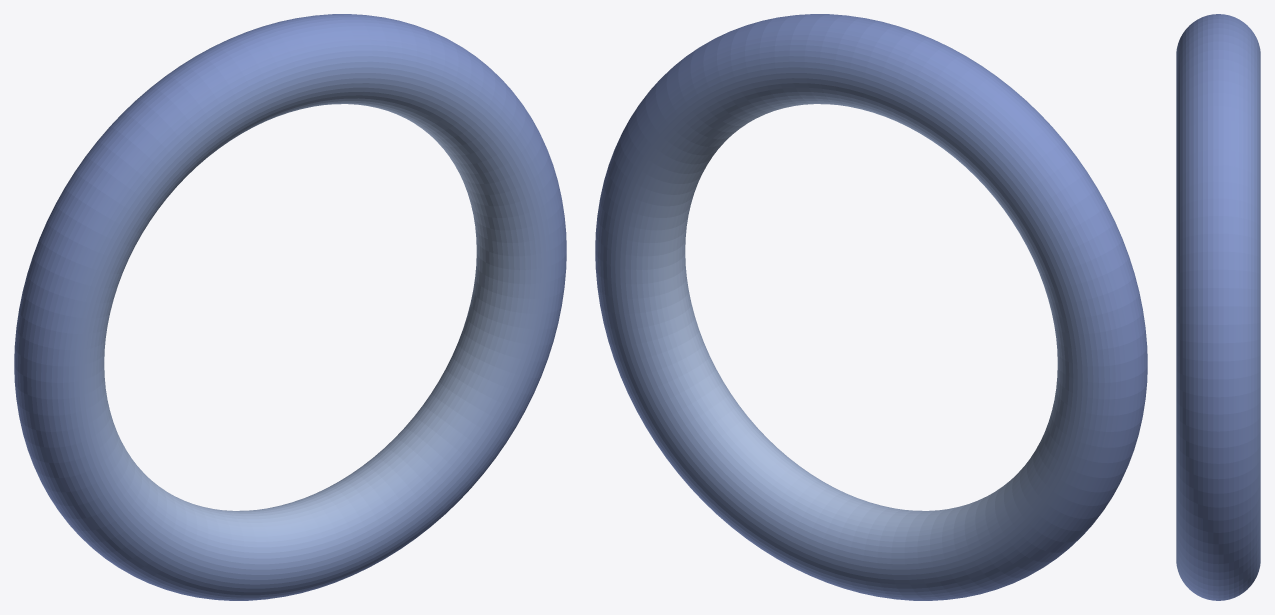
The picture shows the model from 3 angles, left to right: view 1: azimuth 30°, elevation 25°; view 2: azimuth 150°, elevation 25°; view 3: azimuth 270°, elevation 25°; orthographic projection. The views are drawn at different scales.
Parts seen in each view (by area): view 1: world; view 2: world; view 3: world.
Boxes of the visible parts, x1,y1,x2,y2 form: world: (14,14,566,600); world: (595,14,1147,600); world: (1176,14,1260,600).
Size of the model in its own units: 24.93 by 24.93 by 3.59.
